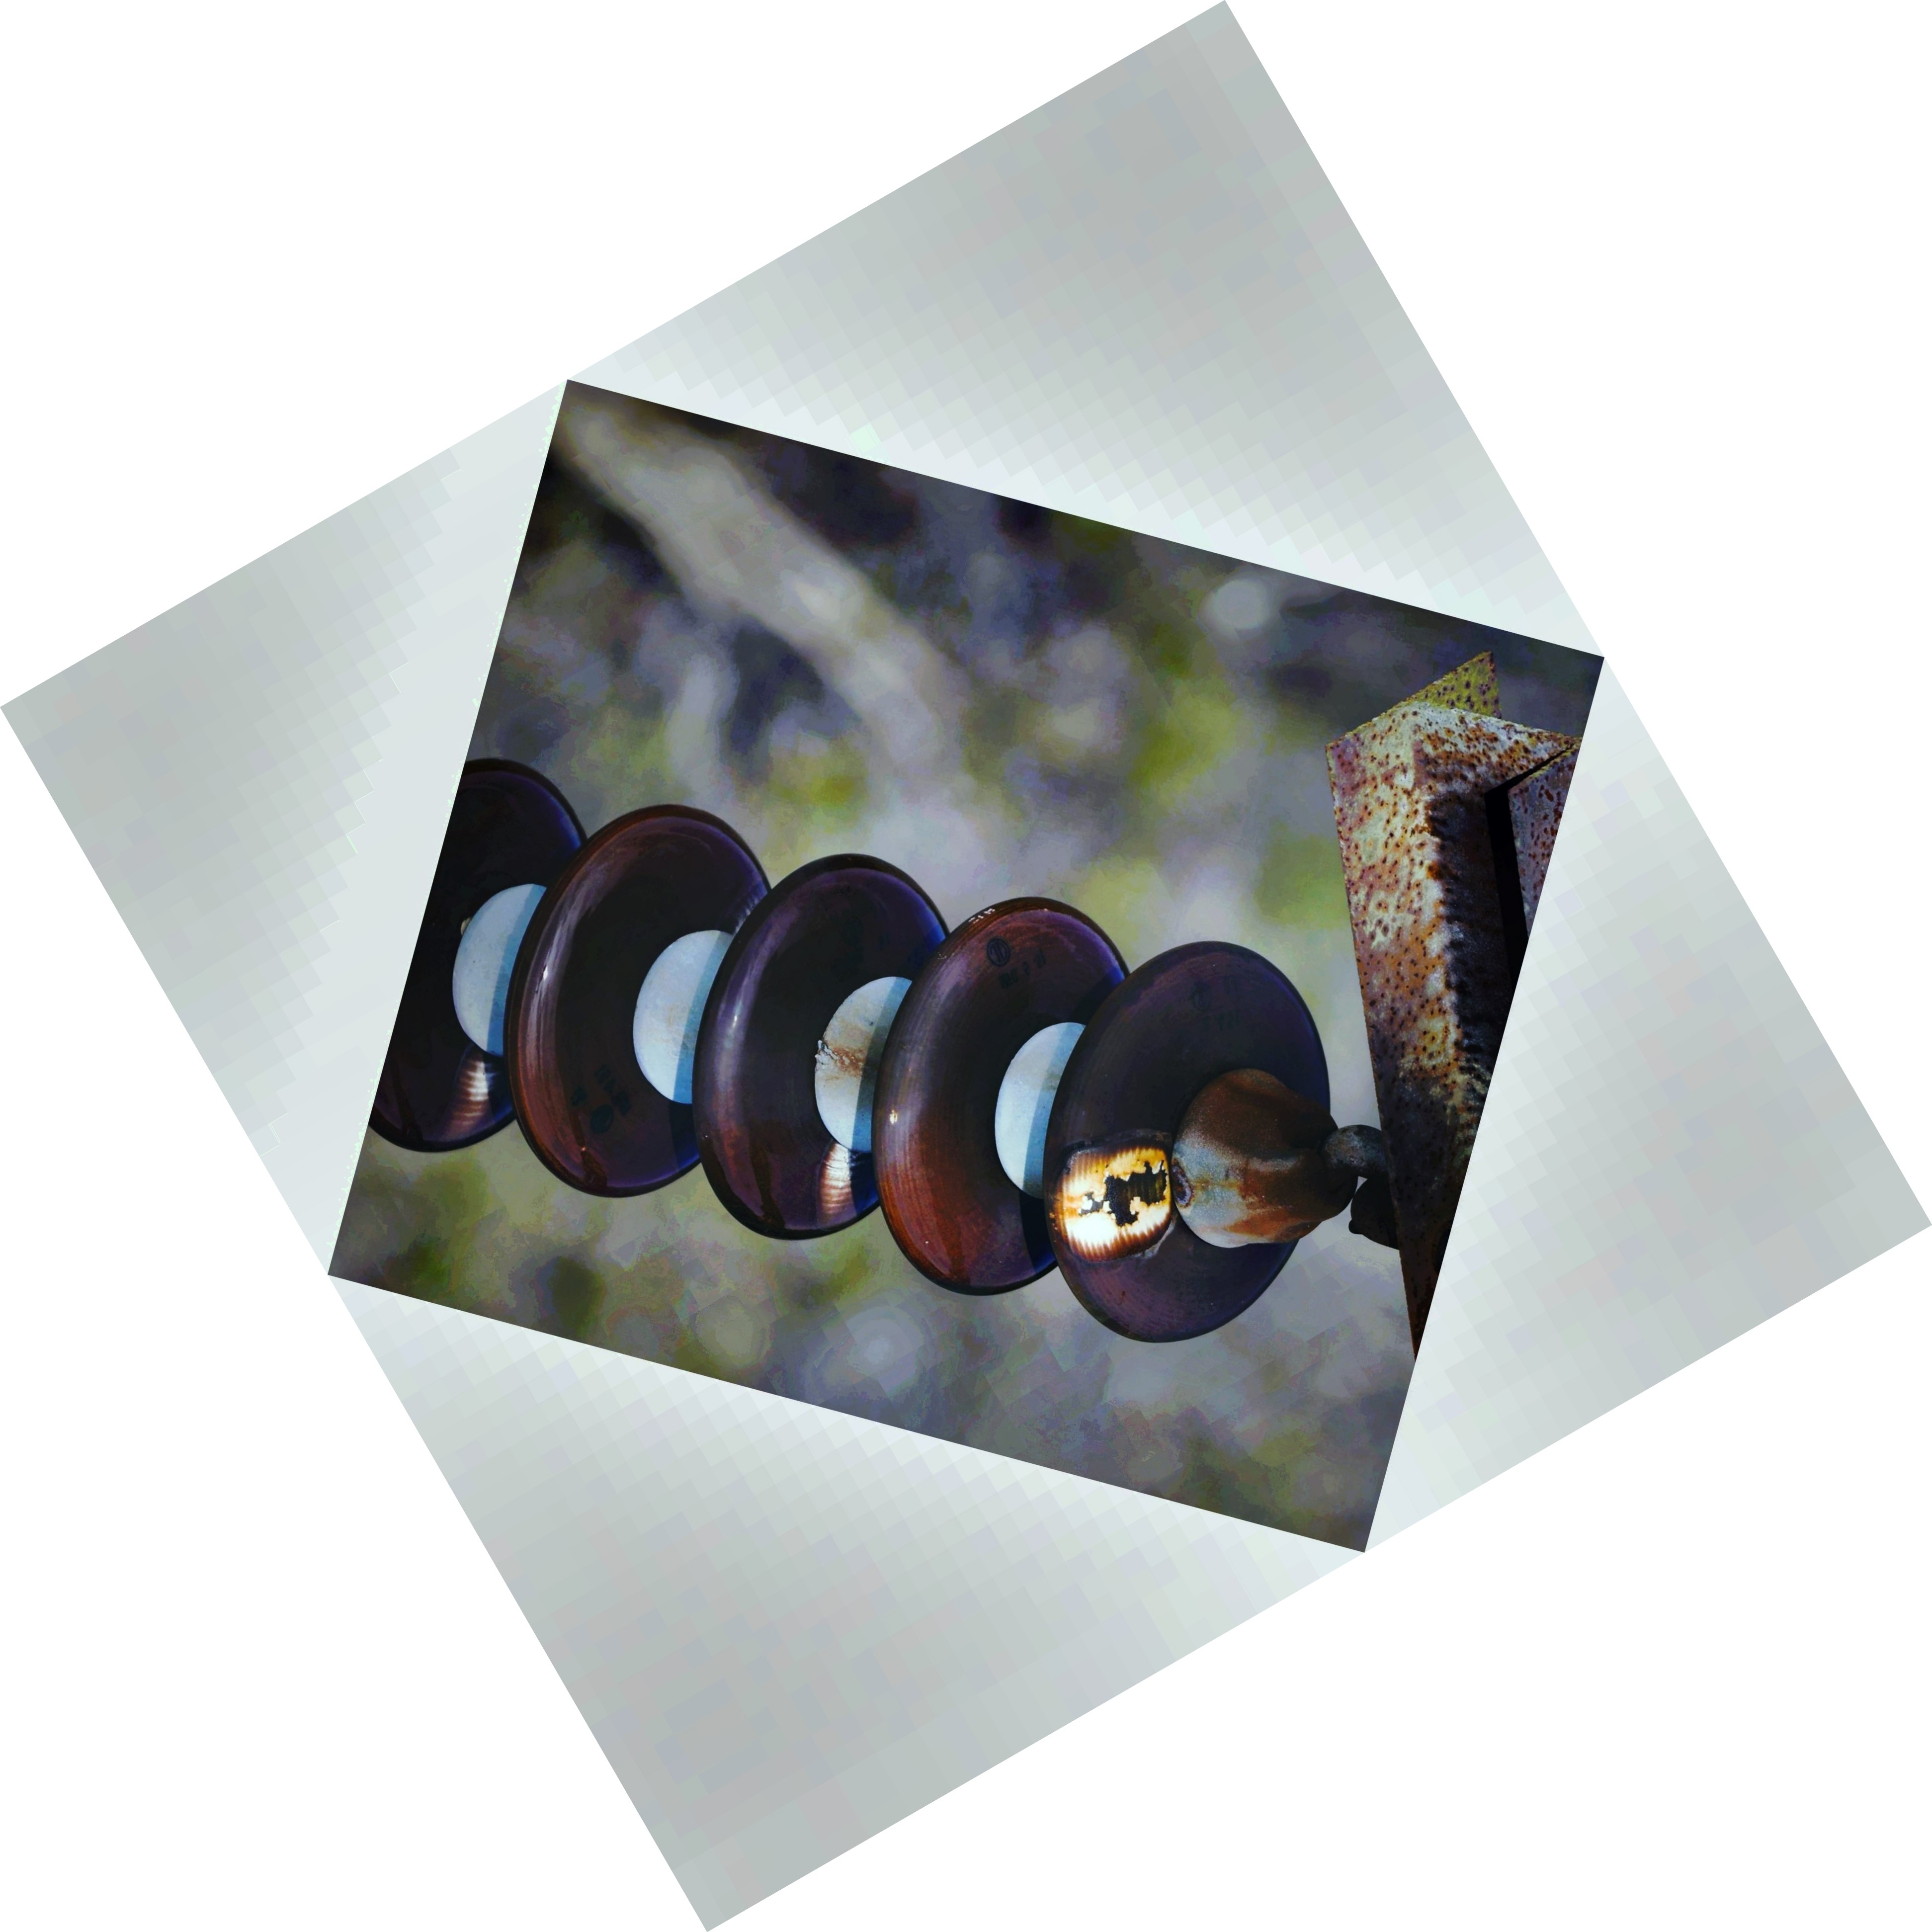Insulator flashover: (1010, 925, 1352, 1355)
